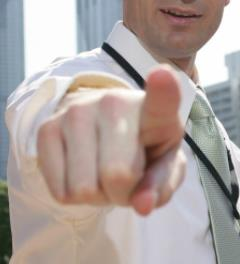up: (32, 59, 190, 219)
